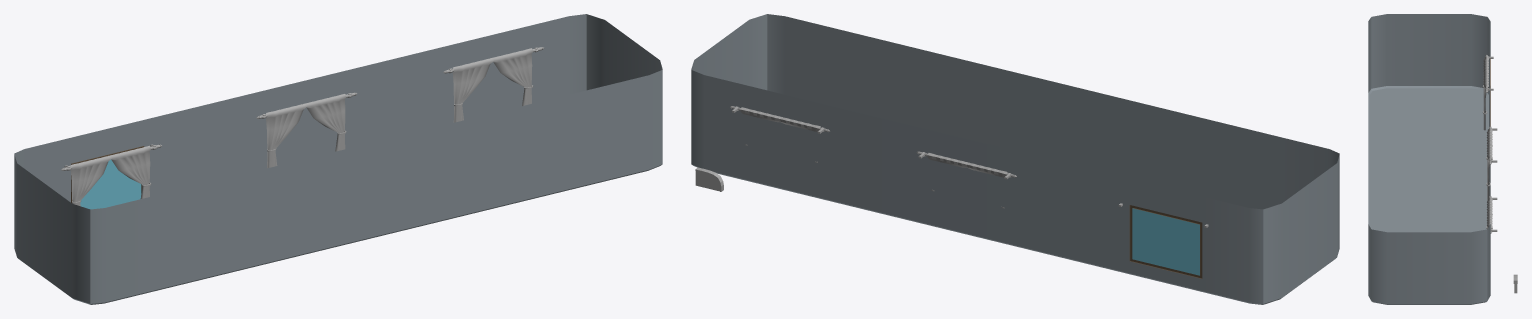
Rendered from carriage_02.fbx.
3 views of the same model, side by side, from view 1: azimuth 30°, elevation 25°; view 2: azimuth 150°, elevation 25°; view 3: azimuth 270°, elevation 25° (orthographic). The views are drawn at different scales.
Visible parts, largest first — view 1: group5_pCylinder2; view 2: group5_pCylinder2; view 3: group5_pCylinder2.
Boxes of the visible parts, x1,y1,x2,y2 form: group5_pCylinder2: (14,14,662,304); group5_pCylinder2: (691,14,1339,304); group5_pCylinder2: (1368,14,1517,304).
Size of the model in its own units: 210 by 32.94 by 60.78.
